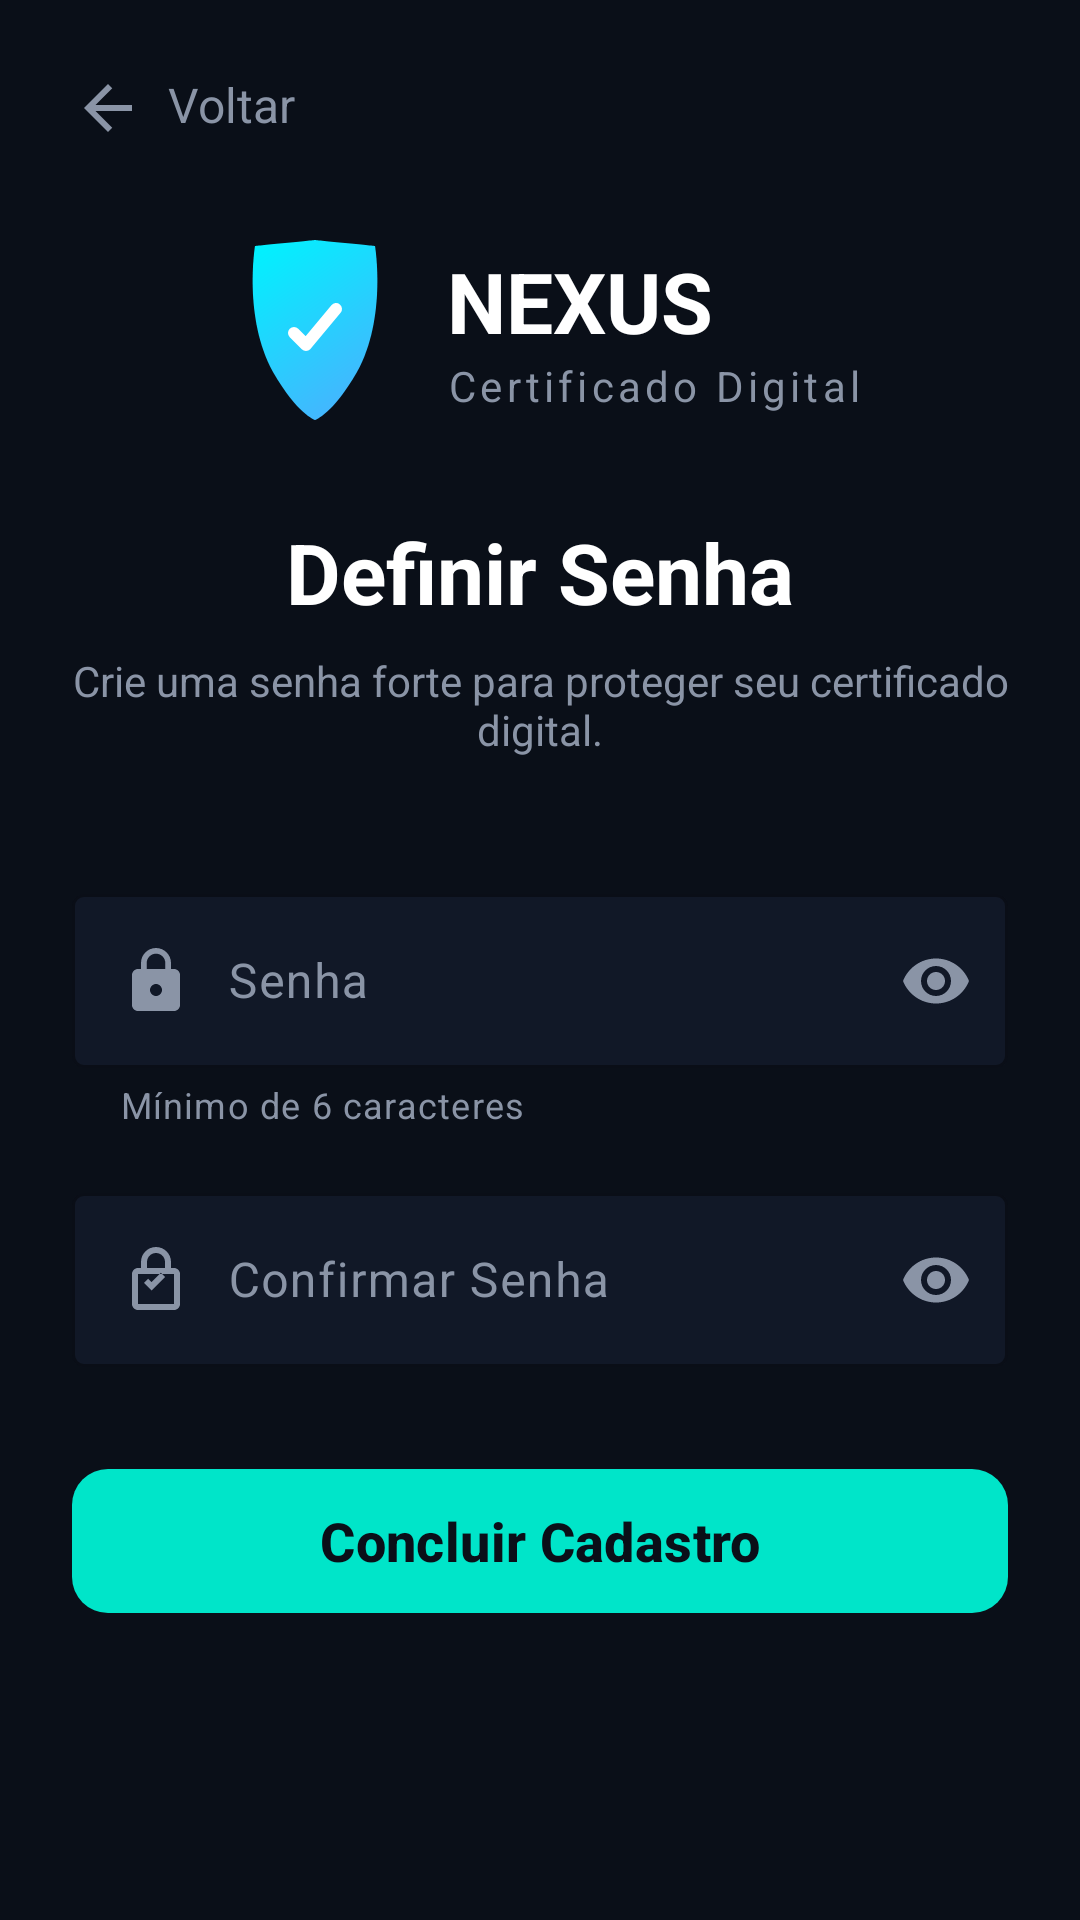

Icons on this 1080px×1920px Android screen, each with the point to tap as point (x, y):
shield neon: point (315, 330)
